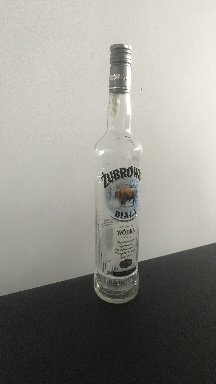butelka: (91, 40, 143, 308), (92, 41, 144, 305)
